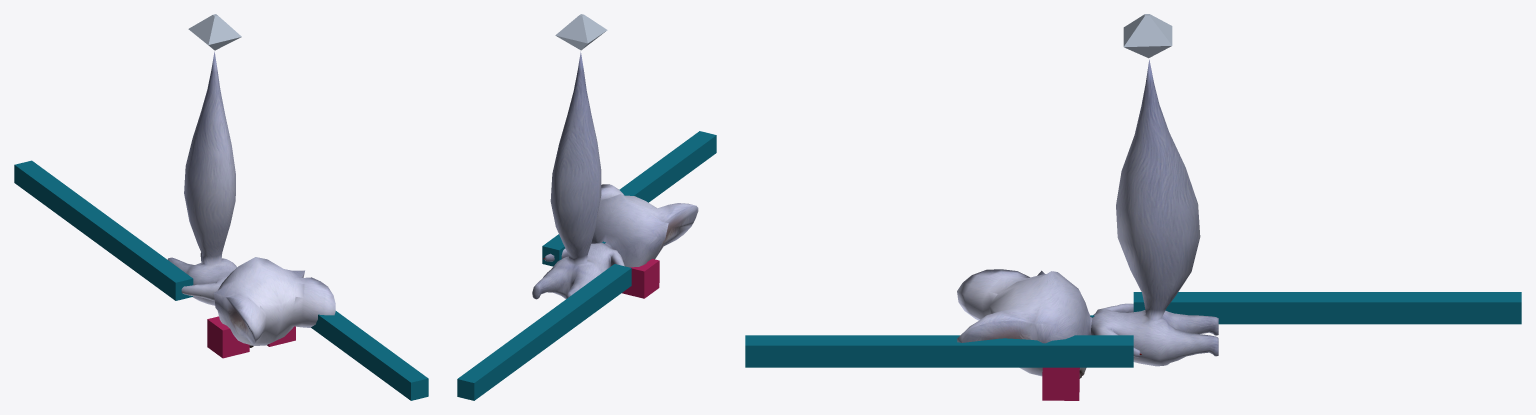
The picture shows the model from 3 angles, left to right: view 1: azimuth 30°, elevation 25°; view 2: azimuth 150°, elevation 25°; view 3: azimuth 270°, elevation 25°; orthographic projection. The views are drawn at different scales.
Visible parts, largest first — view 1: M328, "Biped Object@#3", "Biped Object@#4", Box, Bone; view 2: M328, "Biped Object@#3", "Biped Object@#4", Bone, Box; view 3: M328, "Biped Object@#4", "Biped Object@#3", Bone, Box@#0.
Boxes of the visible parts, x1,y1,x2,y2 form: M328: (167,51,335,347); "Biped Object@#3": (14,160,193,300); "Biped Object@#4": (311,311,428,400); Box: (207,316,249,358); Bone: (188,14,241,50); M328: (532,51,698,299); "Biped Object@#3": (457,264,631,400); "Biped Object@#4": (542,131,716,266); Bone: (555,14,607,50); Box: (622,259,659,298); M328: (957,59,1218,378); "Biped Object@#4": (745,335,1133,367); "Biped Object@#3": (1133,292,1521,324); Bone: (1123,14,1172,58); Box@#0: (1042,367,1079,400).
Bounding box in the file's own units: 0.5446 × 1.75 × 3.32.
